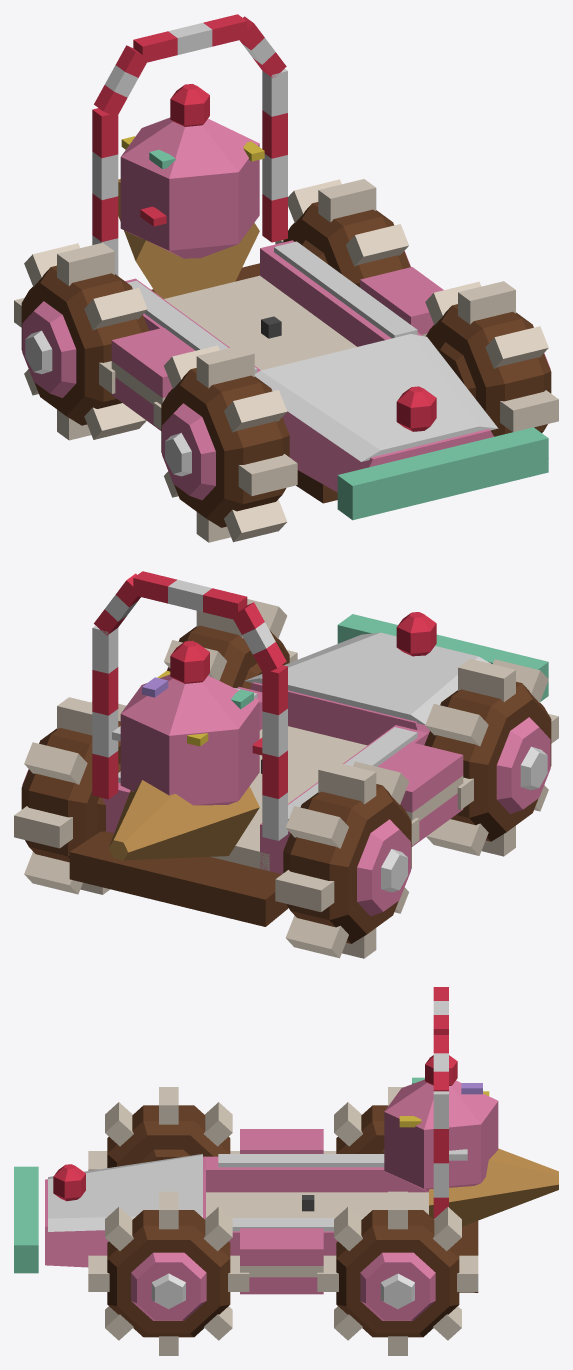
Rendered from kart-candyLand.glb.
3 views of the same model, one above another, from view 1: azimuth 30°, elevation 25°; view 2: azimuth 150°, elevation 25°; view 3: azimuth 270°, elevation 25° (orthographic). The views are drawn at different scales.
Parts seen in each view (by area): view 1: kart-candyLand, wheel-front-right, wheel-back-right, wheel-front-left, wheel-back-left; view 2: kart-candyLand, wheel-back-right, wheel-front-right, wheel-back-left, wheel-front-left; view 3: kart-candyLand, wheel-back-left, wheel-front-left, wheel-front-right, wheel-back-right.
Boxes of the visible parts, box(x1,y1,x2,y2) form: kart-candyLand: box(92, 14, 548, 520); wheel-front-right: box(153, 345, 297, 542); wheel-back-right: box(14, 242, 148, 440); wheel-front-left: box(425, 281, 558, 436); wheel-back-left: box(275, 179, 410, 287); kart-candyLand: box(69, 571, 548, 926); wheel-back-right: box(275, 761, 419, 958); wheel-front-right: box(424, 658, 558, 856); wheel-back-left: box(14, 697, 126, 894); wheel-front-left: box(164, 599, 297, 689); kart-candyLand: box(14, 987, 558, 1294); wheel-back-left: box(317, 1191, 478, 1355); wheel-front-left: box(88, 1191, 249, 1355); wheel-front-right: box(88, 1087, 239, 1170); wheel-back-right: box(323, 1087, 403, 1153).
Size of the model in its own units: 1.12 by 1.02 by 1.76.
